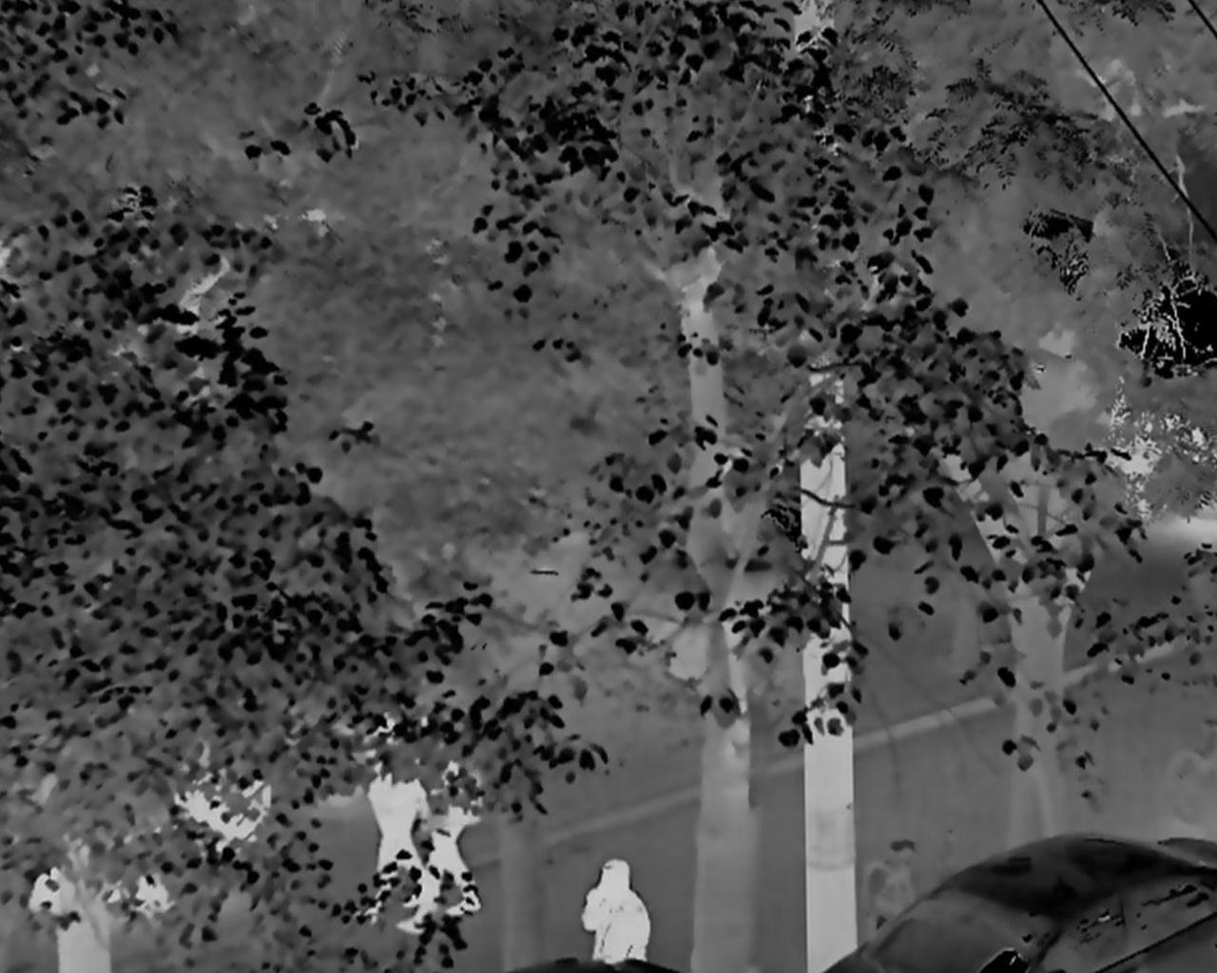person: (405, 733, 484, 937), (365, 708, 429, 926), (583, 859, 654, 973)
